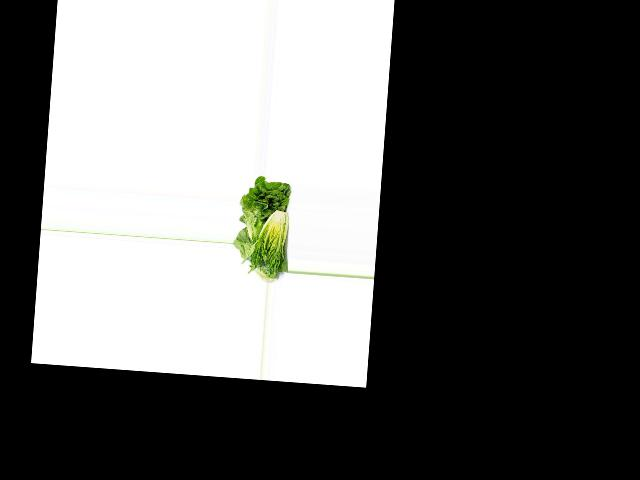lettuce: (237, 176, 295, 241)
